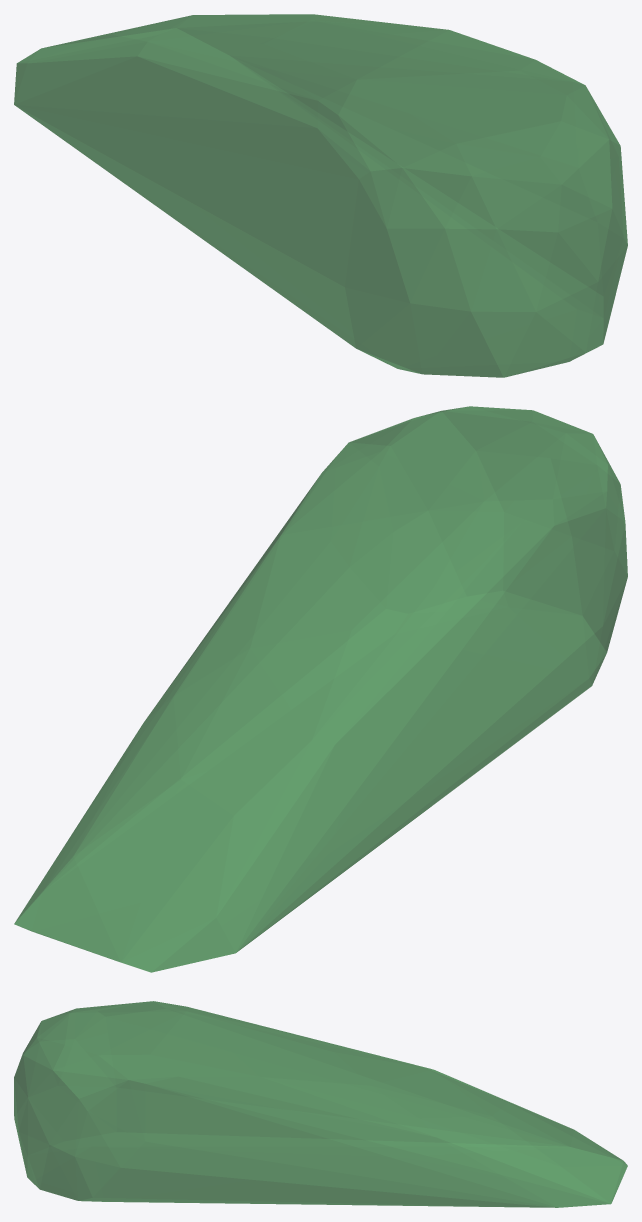
3 renders of one model, top to bottom at view 1: azimuth 30°, elevation 25°; view 2: azimuth 150°, elevation 25°; view 3: azimuth 270°, elevation 25°, orthographic. The views are drawn at different scales.
Parts seen in each view (by area): view 1: Shape_IndexedFaceSet.003_Shape_IndexedFaceSet.14611; view 2: Shape_IndexedFaceSet.003_Shape_IndexedFaceSet.14611; view 3: Shape_IndexedFaceSet.003_Shape_IndexedFaceSet.14611.
Boxes of the visible parts, x1,y1,x2,y2 form: Shape_IndexedFaceSet.003_Shape_IndexedFaceSet.14611: (14,14,627,377); Shape_IndexedFaceSet.003_Shape_IndexedFaceSet.14611: (14,406,627,972); Shape_IndexedFaceSet.003_Shape_IndexedFaceSet.14611: (14,1001,627,1207).
Bounding box in the file's own units: 0.1692 × 0.1479 × 0.5476.
